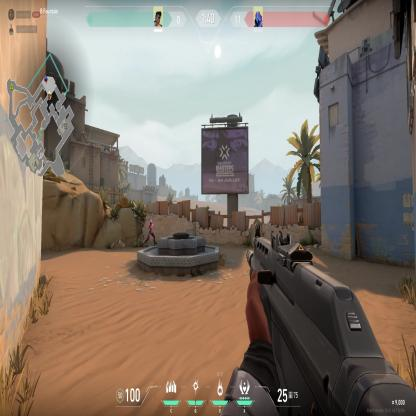enemy: (142, 217, 157, 249)
